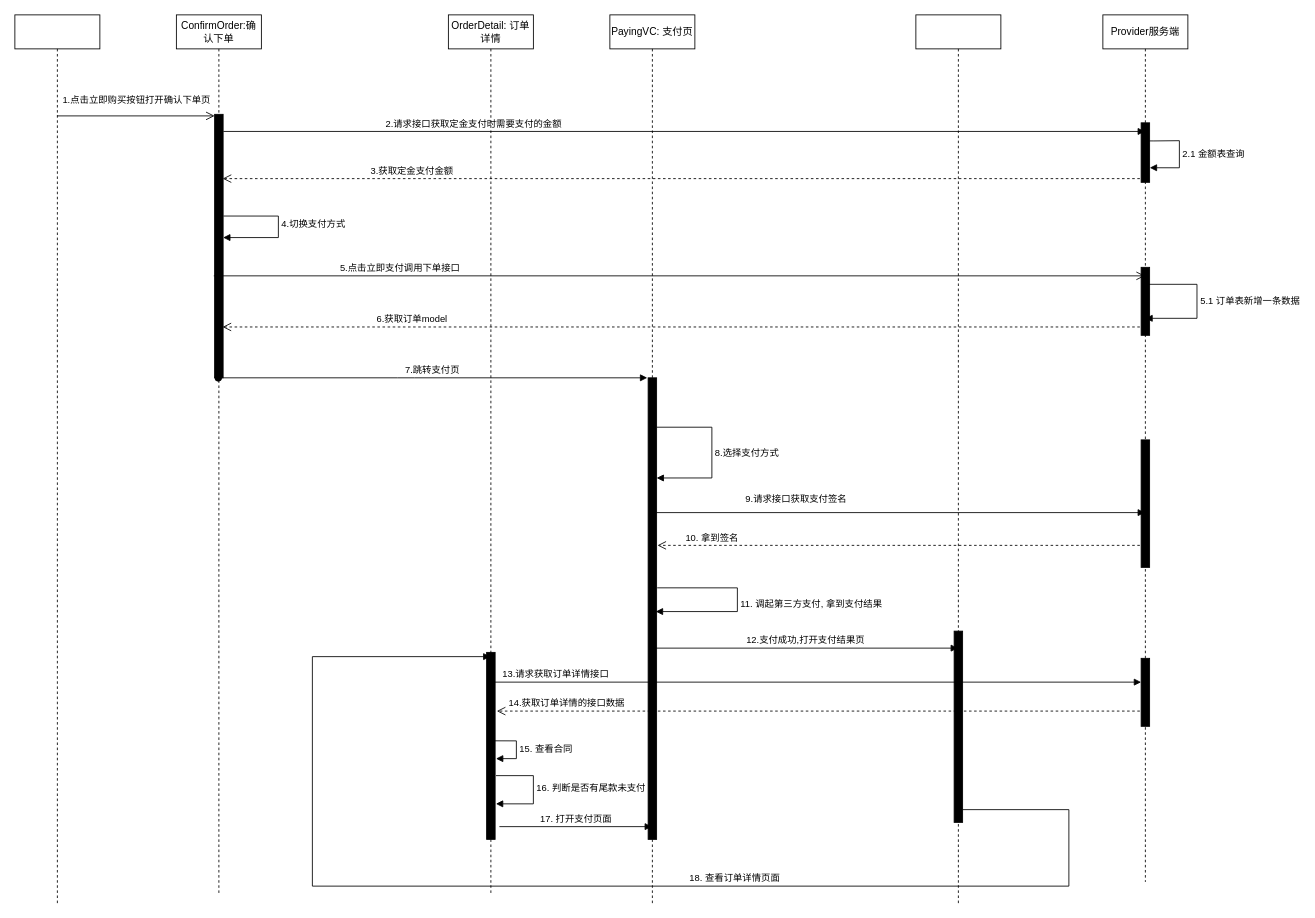
Image size: 1315x918. Some labels were removed from this diagram. The shapes that lost their labels are listed below. From the top down, each one's box as (x1, y1, x2, y2) in pixels, then its label:
(14, 14, 100, 903): CarDetail: 车辆详情
(915, 14, 1001, 903): PayingResultVC: 支付结果页
